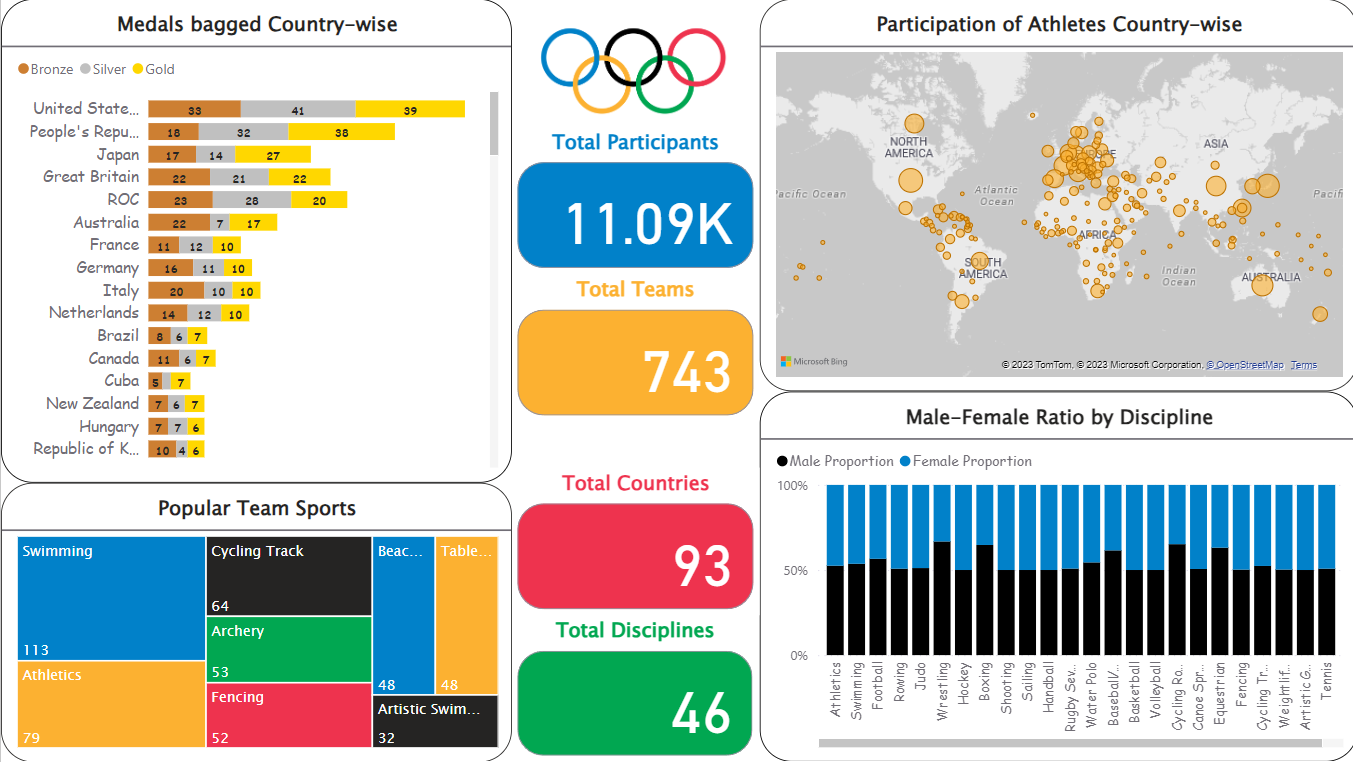

The page's visual inventory and layout, read from the dashboard file:
{"tool":"powerbi","page":{"name":"overall","canvas":[1280,720],"ordinal":0},"visuals":[{"type":"barChart","title":"Medals bagged Country-wise","fields":{"Category":["Medals.Team_Country"],"Y":["Medals.Bronze","Medals.Silver","Medals.Gold"]},"box":[0,0,482.4,456.5],"z":0},{"type":"map","title":"Participation of Athletes Country-wise","fields":{"Category":["Athletes.Country"],"Size":["Athletes.PersonName"]},"box":[716.1,0,564.4,370.4],"z":1000},{"type":"treemap","title":"Popular Team Sports","fields":{"Group":["Teams.Discipline"],"Values":["Teams.TeamName"]},"box":[0,456.5,482.4,263.8],"z":2000},{"type":"image","box":[355.3,0,487.9,125.7],"z":3000},{"type":"hundredPercentStackedColumnChart","title":"Male-Female Ratio by Discipline","fields":{"Category":["EntriesGender.Discipline"],"Y":["EntriesGender.Male","EntriesGender.Female"]},"box":[716.1,370.4,564.4,349.9],"z":4000},{"type":"cardVisual","title":"Total Participants","fields":{"Data":["Athletes.PersonName"]},"box":[482.8,120,233.2,139.1],"z":5000},{"type":"cardVisual","title":"Total Teams","fields":{"Data":["Teams.TeamName"]},"box":[482.8,259.1,233.2,139.1],"z":6000},{"type":"cardVisual","title":"Total Countries","fields":{"Data":["Medals.Team_Country"]},"box":[482.4,442.8,233.7,139.4],"z":7000},{"type":"cardVisual","title":"Total Disciplines","fields":{"Data":["EntriesGender.Discipline"]},"box":[482.4,582.2,232.3,138],"z":8000}]}

Visuals, with their boxes in screenshot pixels (x1, y1, x2, y2), scaled from the page's 1280x720 canvas onto the 1353x762 screenshot:
"Medals bagged Country-wise" barChart: box=[0, 0, 510, 483]
"Participation of Athletes Country-wise" map: box=[757, 0, 1352, 392]
"Popular Team Sports" treemap: box=[0, 483, 510, 761]
image: box=[376, 0, 891, 133]
"Male-Female Ratio by Discipline" hundredPercentStackedColumnChart: box=[757, 392, 1352, 761]
"Total Participants" cardVisual: box=[510, 127, 757, 274]
"Total Teams" cardVisual: box=[510, 274, 757, 421]
"Total Countries" cardVisual: box=[510, 469, 757, 616]
"Total Disciplines" cardVisual: box=[510, 616, 755, 761]
